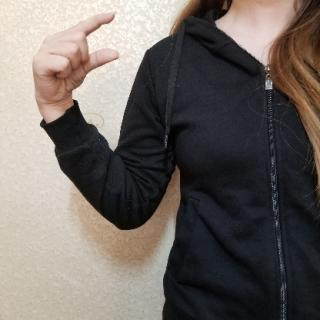DELL: (30, 8, 126, 108)
